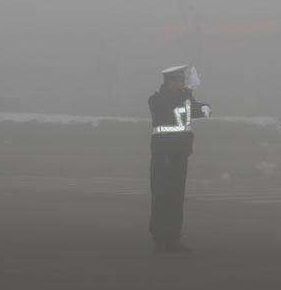person: (146, 61, 215, 259)
